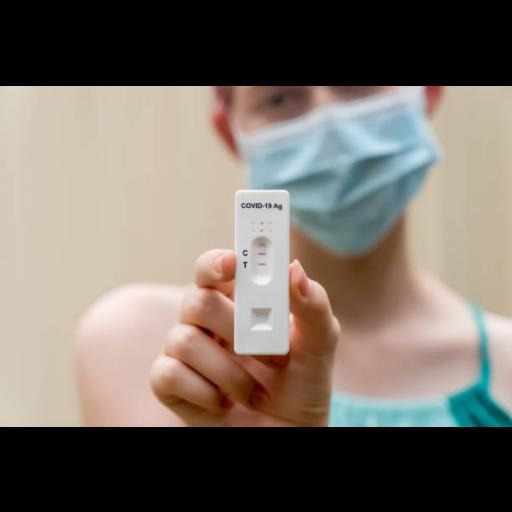Pos: (236, 189, 288, 353)
